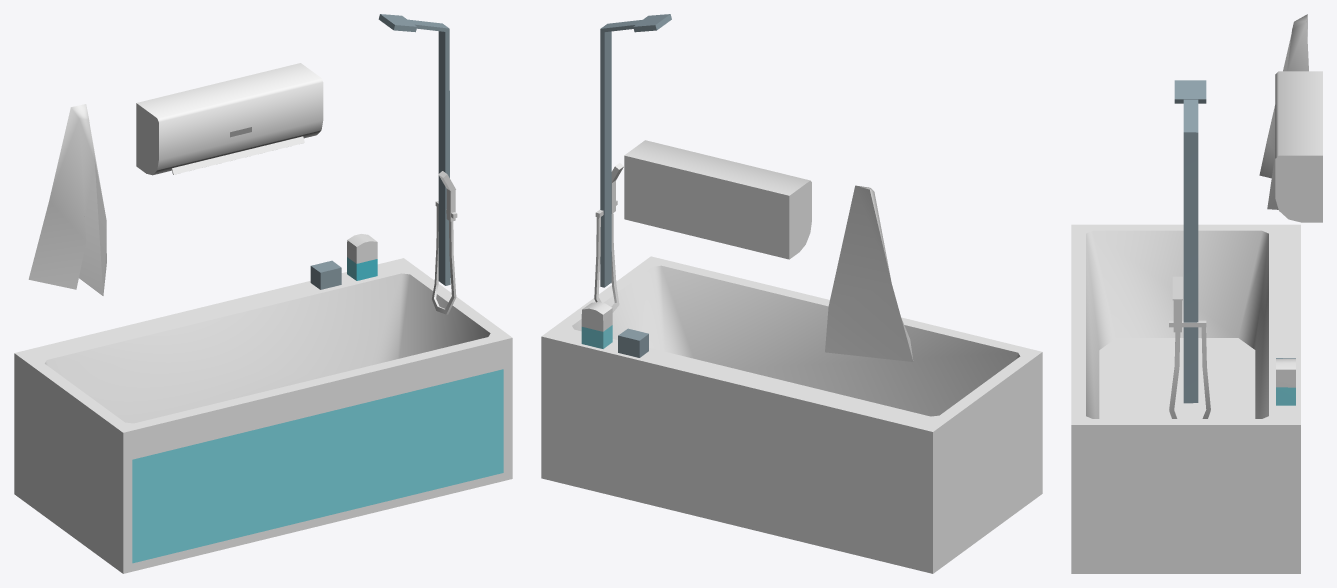
The model's file is bathroom_item_026.fbx.
3 renders of one model, left to right at view 1: azimuth 30°, elevation 25°; view 2: azimuth 150°, elevation 25°; view 3: azimuth 270°, elevation 25°, orthographic. The views are drawn at different scales.
Parts seen in each view (by area): view 1: bathroom_item_026; view 2: bathroom_item_026; view 3: bathroom_item_026.
Boxes of the visible parts, box(x1,y1,x2,y2) form: bathroom_item_026: box(14, 14, 512, 573); bathroom_item_026: box(541, 14, 1042, 573); bathroom_item_026: box(1071, 14, 1322, 573).
Bounding box in the file's own units: 170 × 90.08 × 181.
